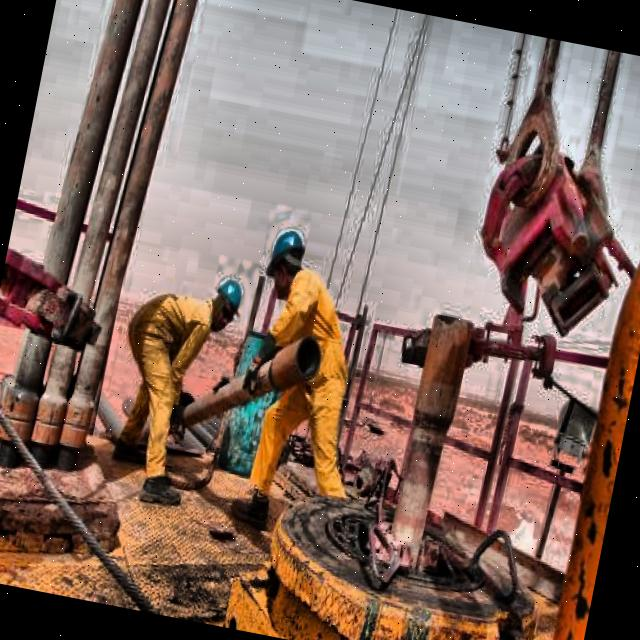helmet: (260, 224, 312, 305), (208, 272, 248, 336)
